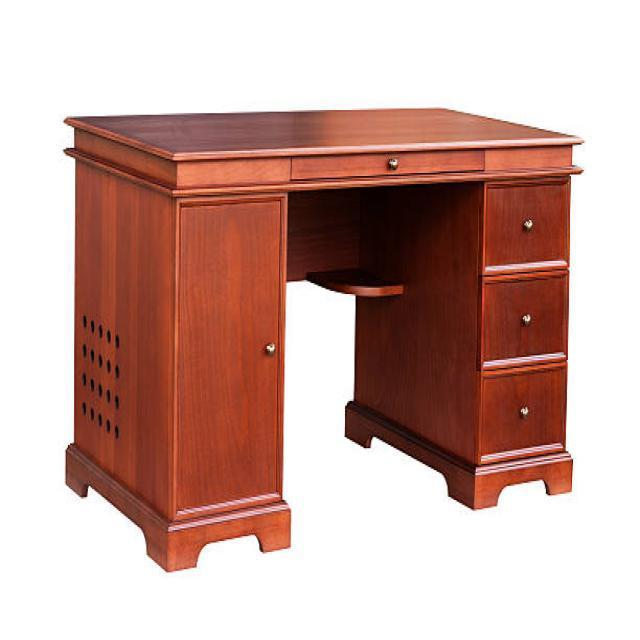table: (61, 105, 584, 572)
